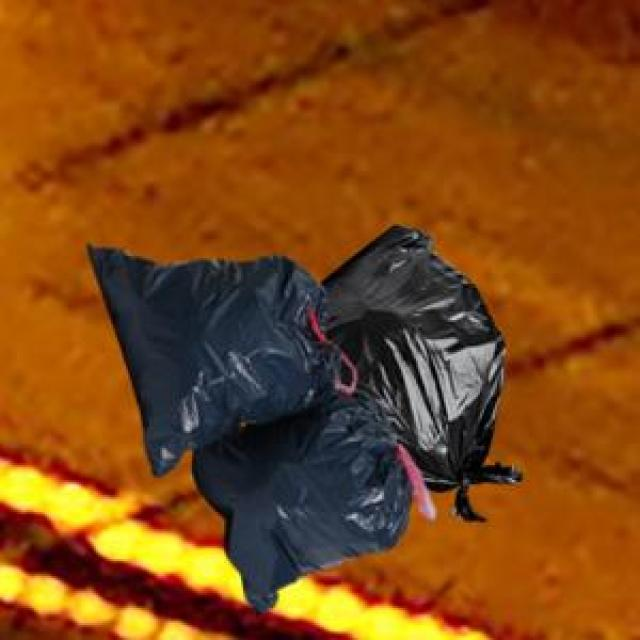waste: (89, 229, 521, 611)
